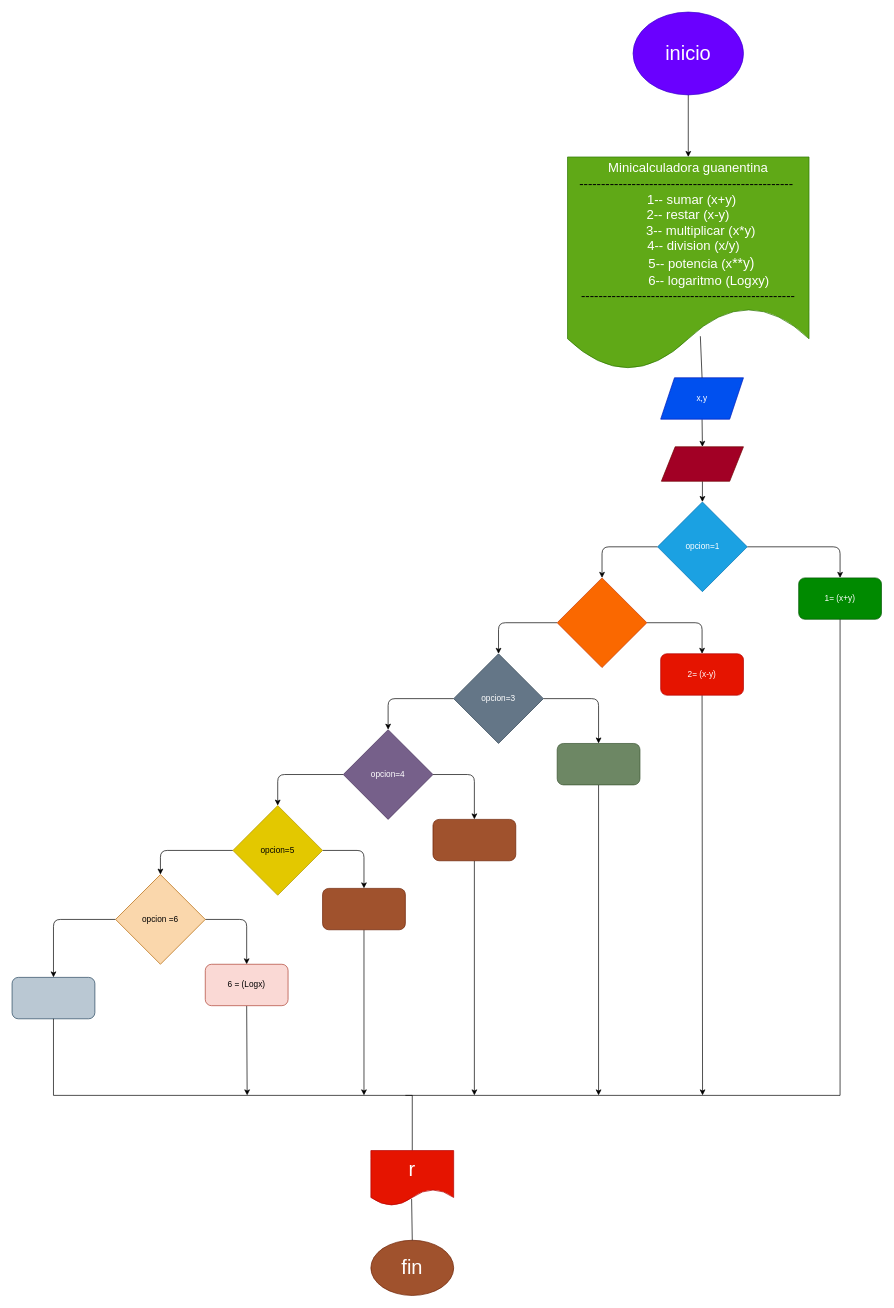
This 894x1308 diagram has some shape labels left out. The box of each missing label's shape, as (x1, y1, x2, y2) in pixels:
3= (x*y): (556, 743, 640, 785)
4= (x/y): (432, 819, 516, 861)
5= (x**y): (322, 888, 405, 930)
opcion: (661, 446, 743, 481)
opcion=2: (556, 577, 647, 668)
r = "No valido": (11, 977, 95, 1019)
